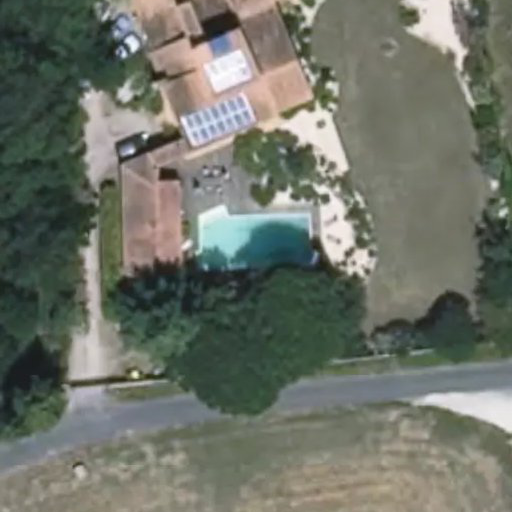pool: (199, 216, 308, 261)
